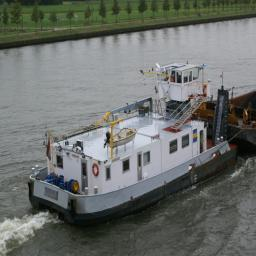tugboat: (28, 58, 240, 240)
